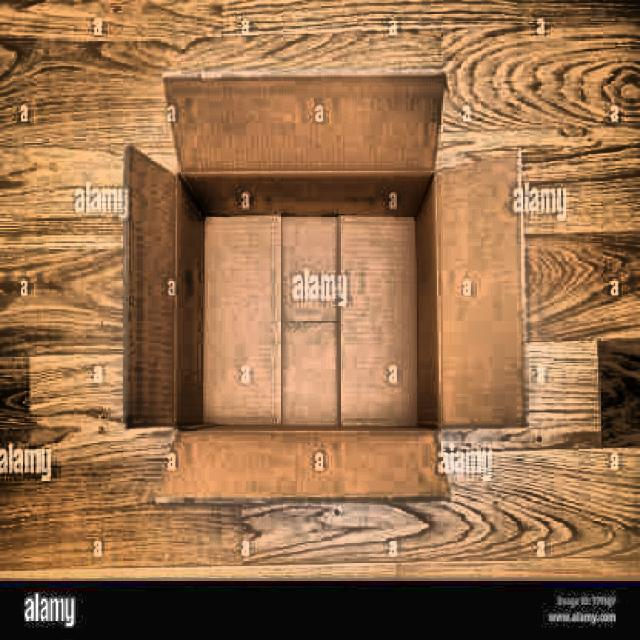Cardbox: (112, 52, 550, 536)
